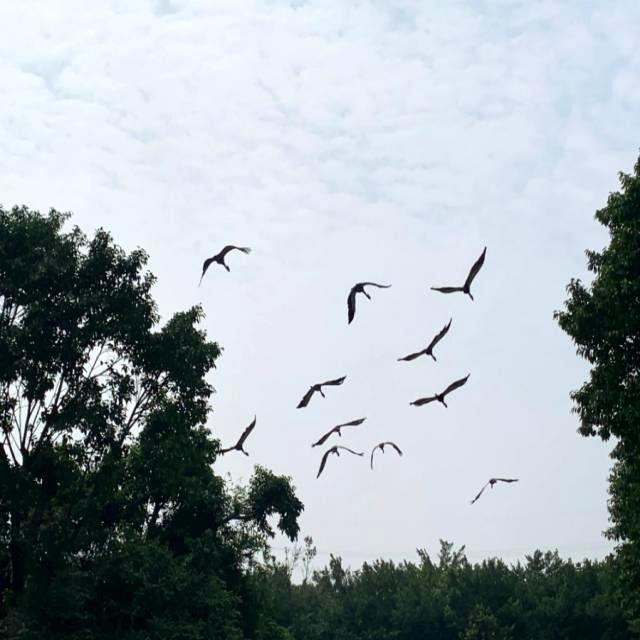bird: (430, 242, 494, 307), (331, 276, 397, 324), (407, 371, 474, 418), (398, 317, 457, 368), (191, 243, 257, 286), (214, 413, 262, 461), (294, 370, 351, 410), (466, 468, 521, 506), (312, 444, 367, 480), (308, 415, 369, 447), (368, 436, 410, 476)
